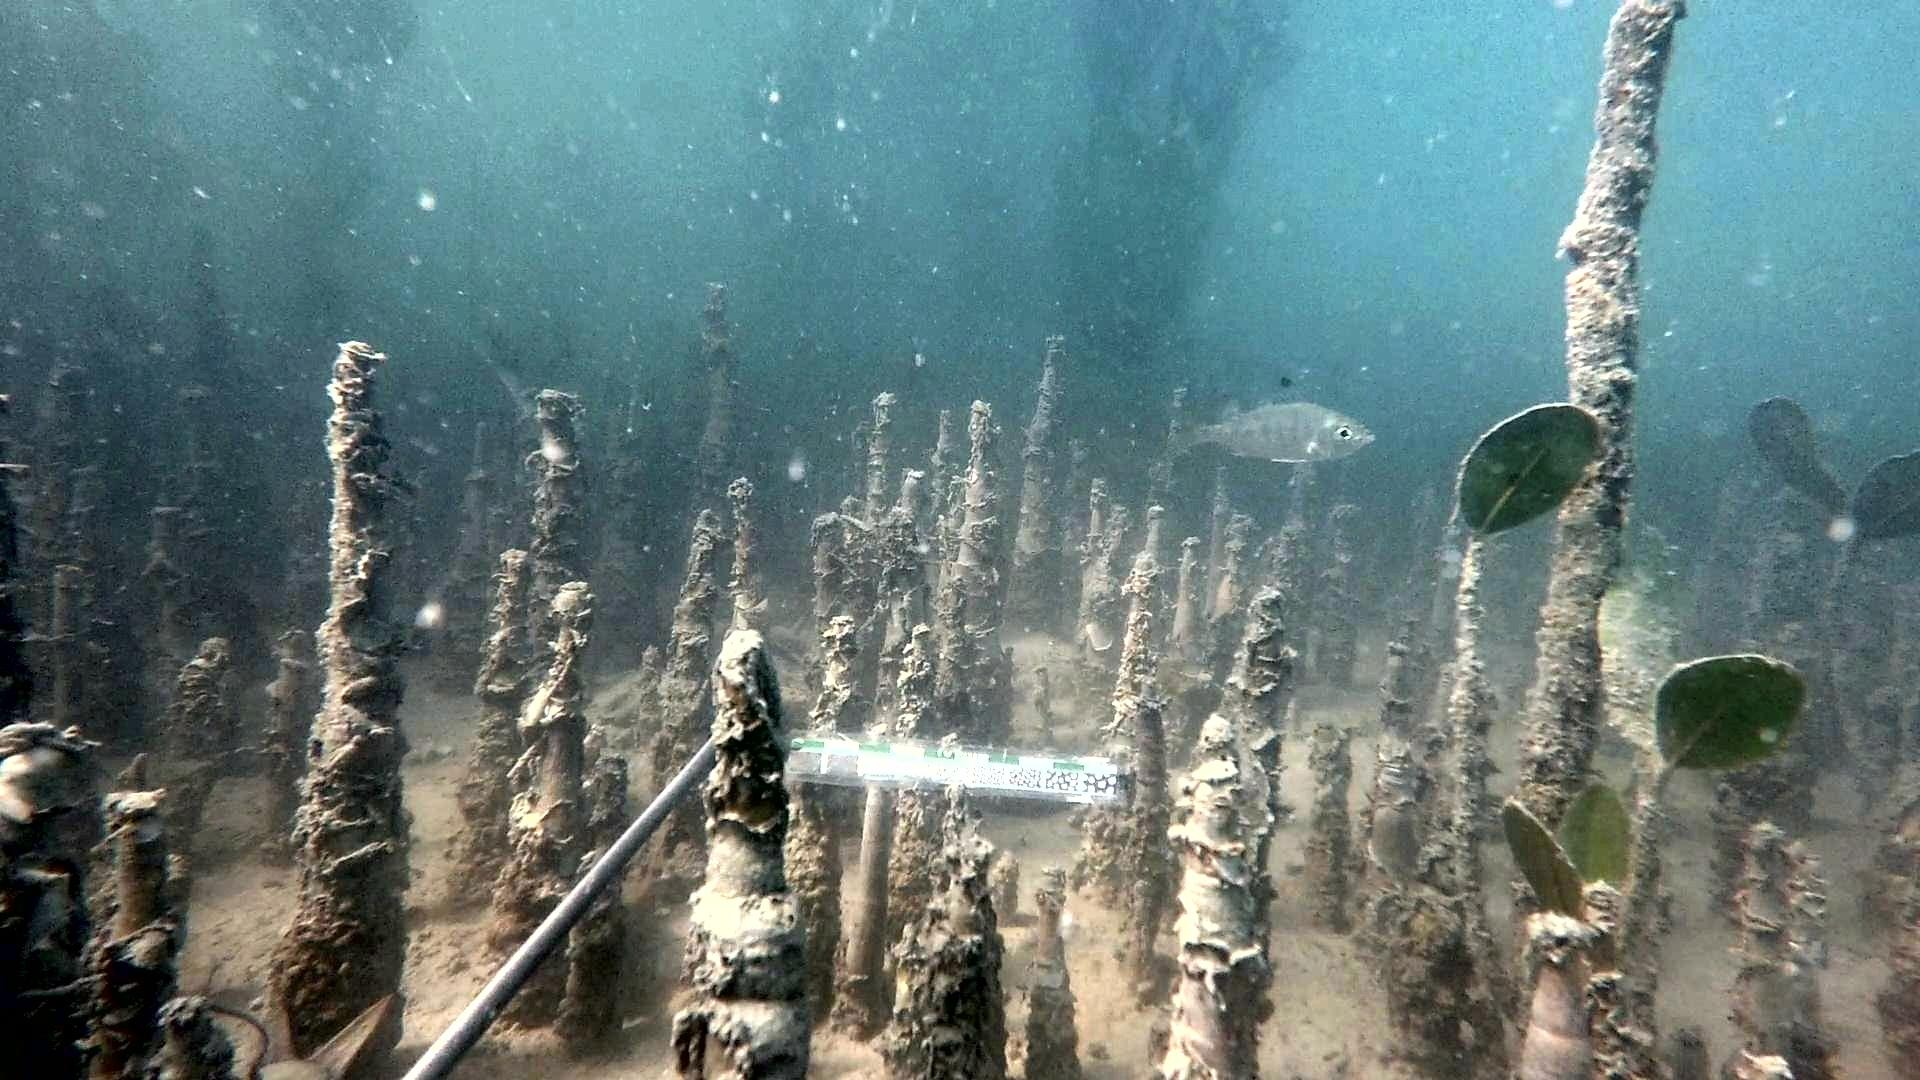gerres: (1158, 376, 1377, 465)
